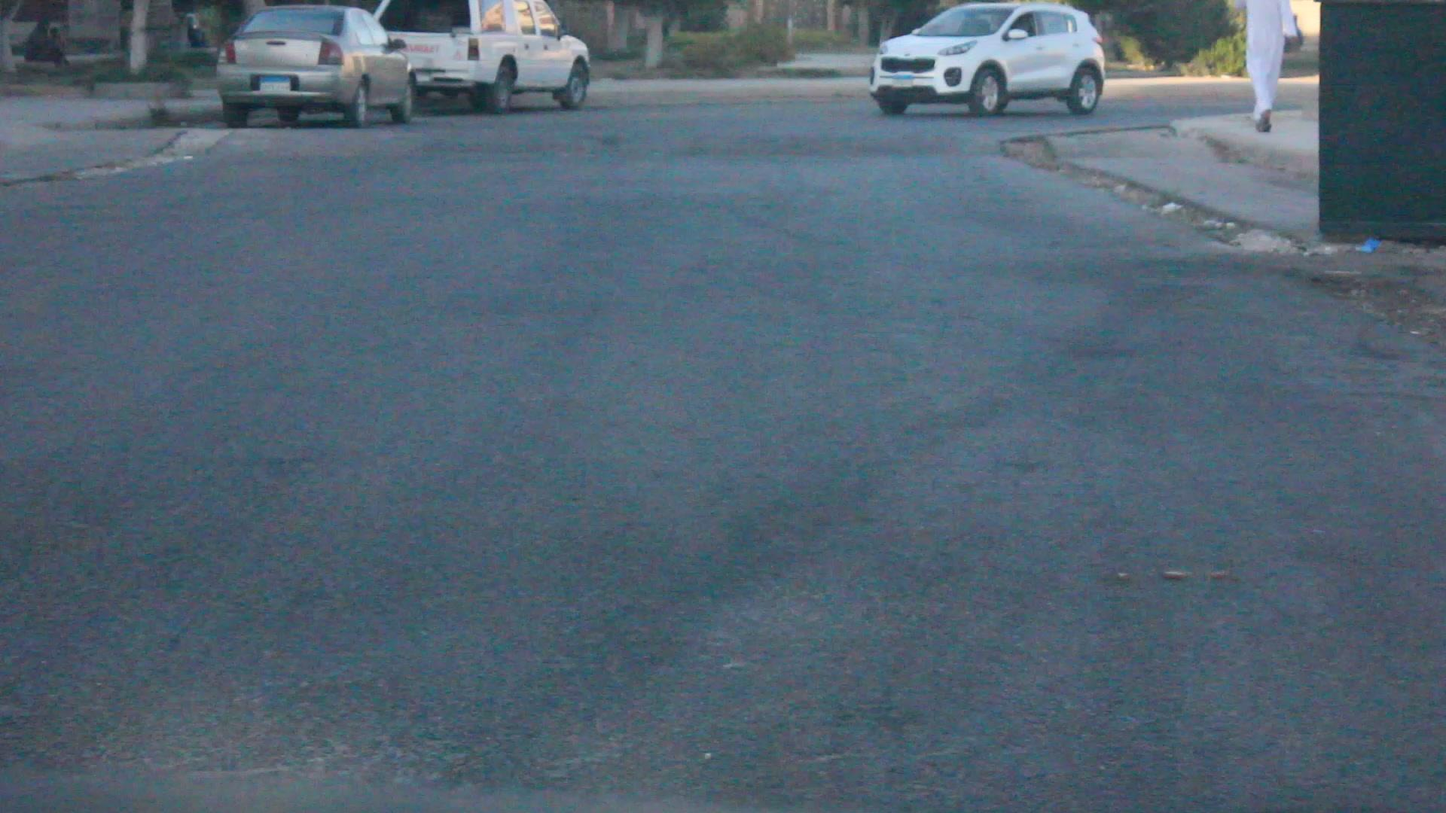Bump: (143, 124, 1077, 160)
